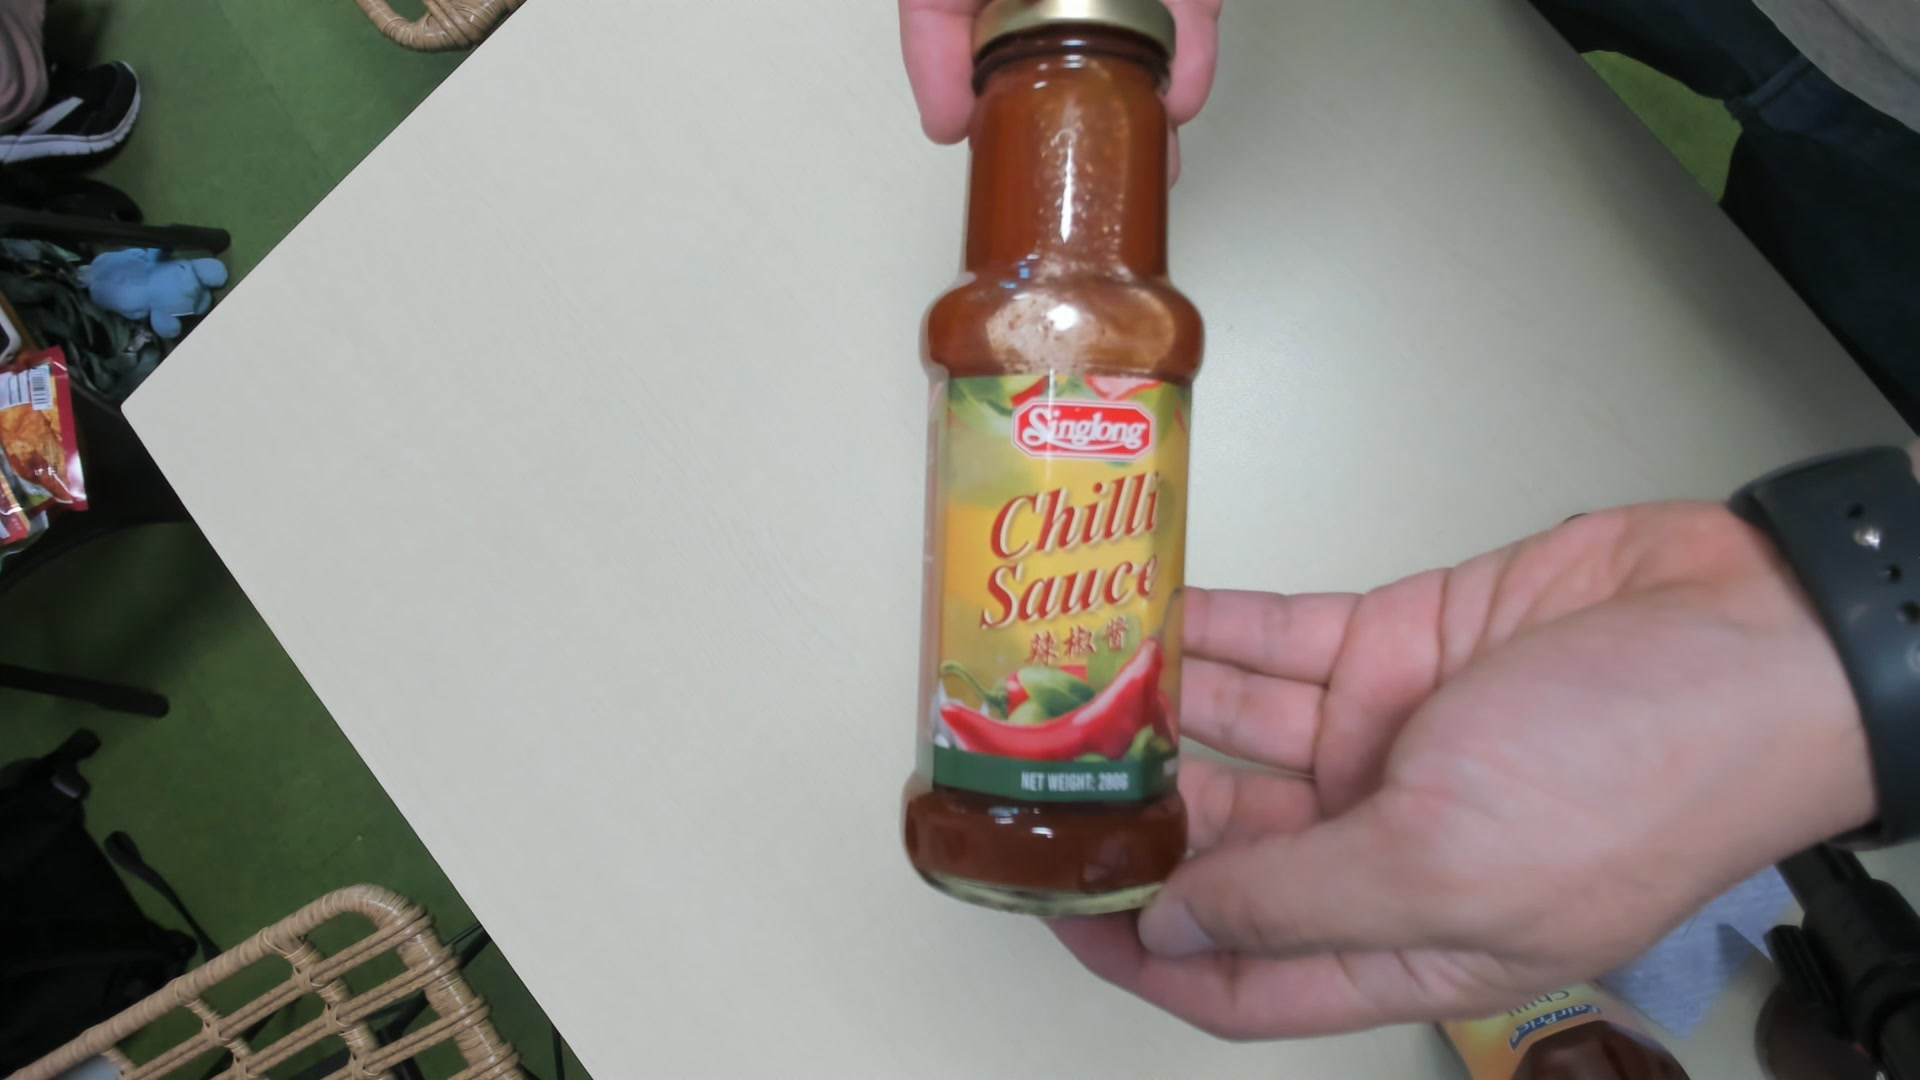KetchupChillSauce_200-299g_Halal_NonHealthy: (902, 1, 1196, 922)
